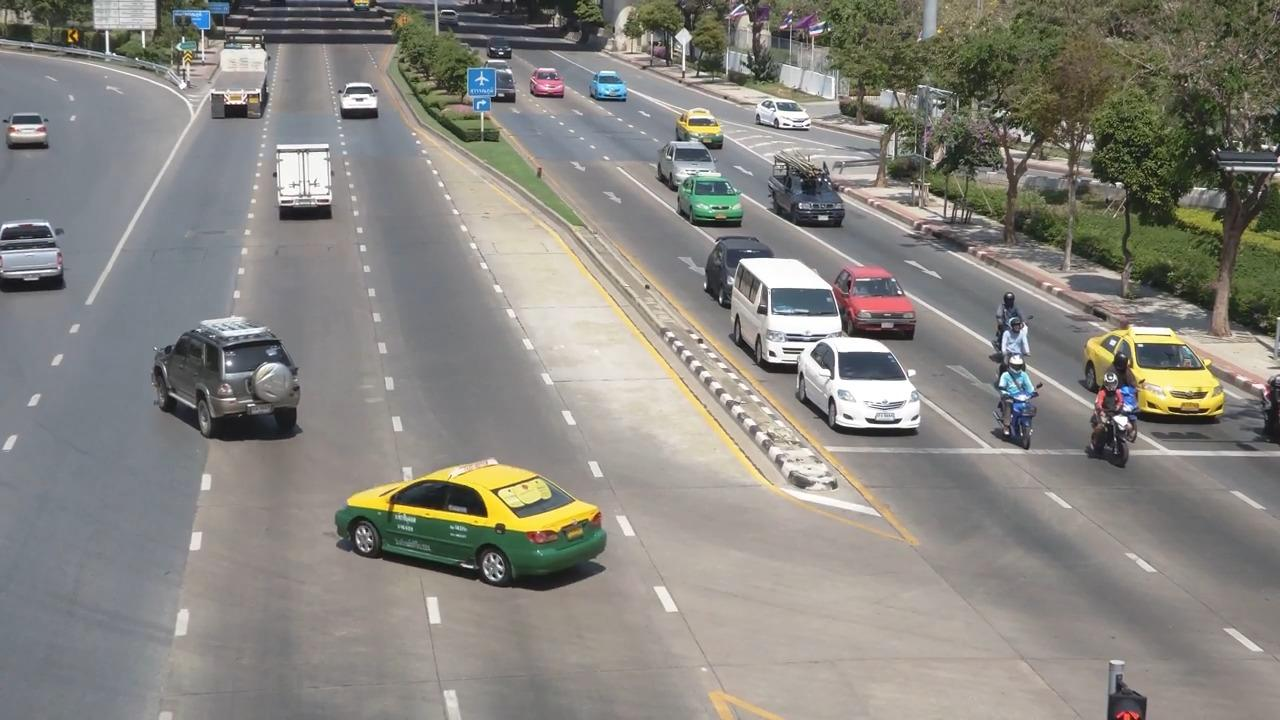CAR: (331, 437, 632, 602), (137, 310, 314, 448), (1084, 310, 1228, 425), (796, 332, 934, 439), (733, 252, 846, 372), (261, 133, 350, 230), (764, 155, 853, 237), (839, 259, 921, 335), (0, 217, 79, 294), (705, 226, 774, 303), (666, 172, 753, 233), (655, 135, 723, 190), (740, 94, 812, 141), (327, 78, 390, 129), (0, 109, 59, 159), (523, 64, 578, 109), (675, 108, 729, 145), (585, 65, 628, 106), (479, 32, 521, 64)
HGV_BUS: (200, 25, 277, 133)
MOTOR: (1084, 354, 1138, 470), (982, 353, 1044, 440), (997, 312, 1037, 373), (994, 283, 1024, 344)
